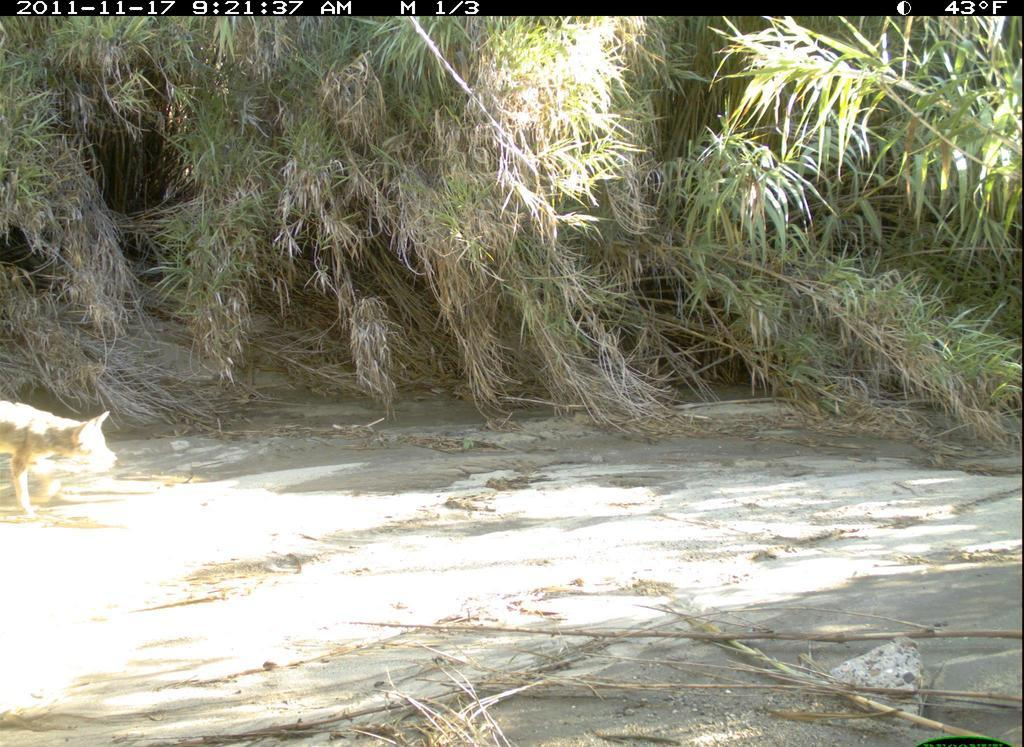coyote: (4, 399, 155, 547)
